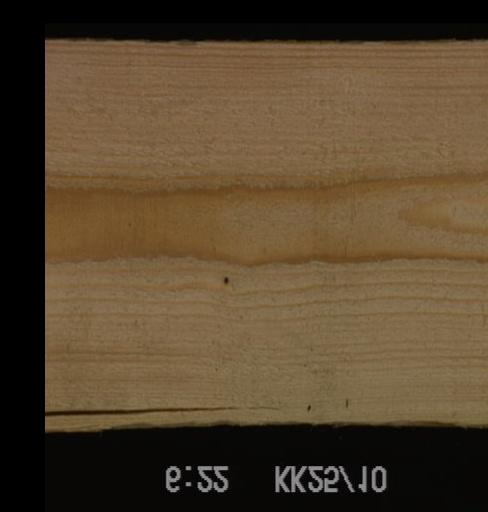small_knot: (217, 271, 232, 287)
split: (44, 401, 284, 423)
